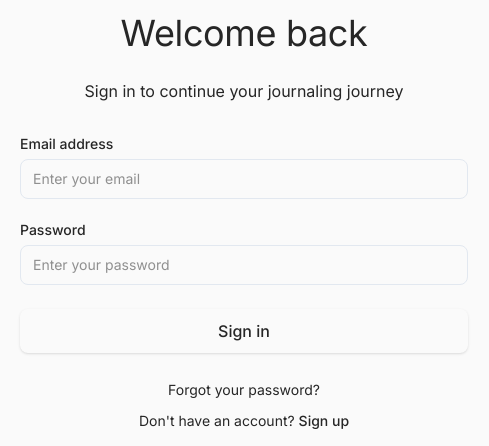
Scenario: AuthForm › Login Mode › shows loading state during login
The image size is (489, 446).
In the field labelled "Email address": (244, 179) [20,159,468,199], type "test@example.com"
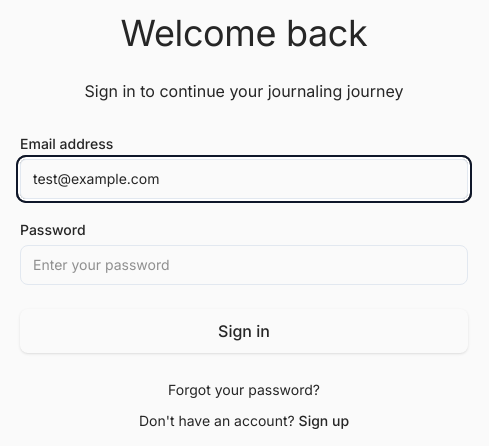
In the password field labelled "Password": (244, 265) [20,245,468,285], type "password123"
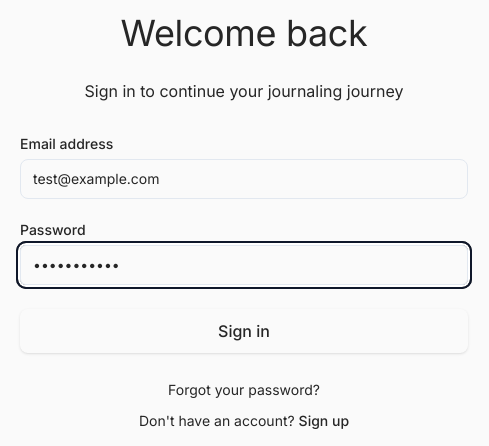
Click the button "Sign in": (244, 331) [20,309,468,353]
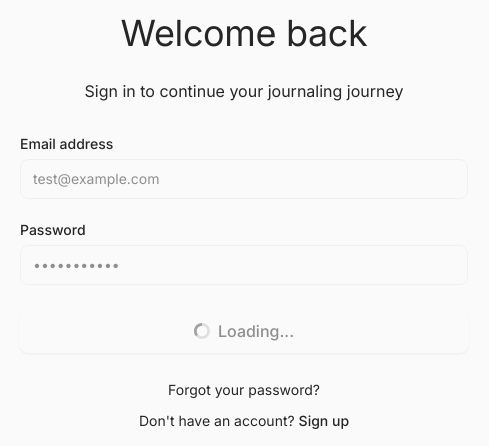
Expected: the button "Loading..." is shown, [20,309,468,353]
Expected: the field labelled "Email address" is disabled, [20,159,468,199]
Expected: the password field labelled "Password" is disabled, [20,245,468,285]
